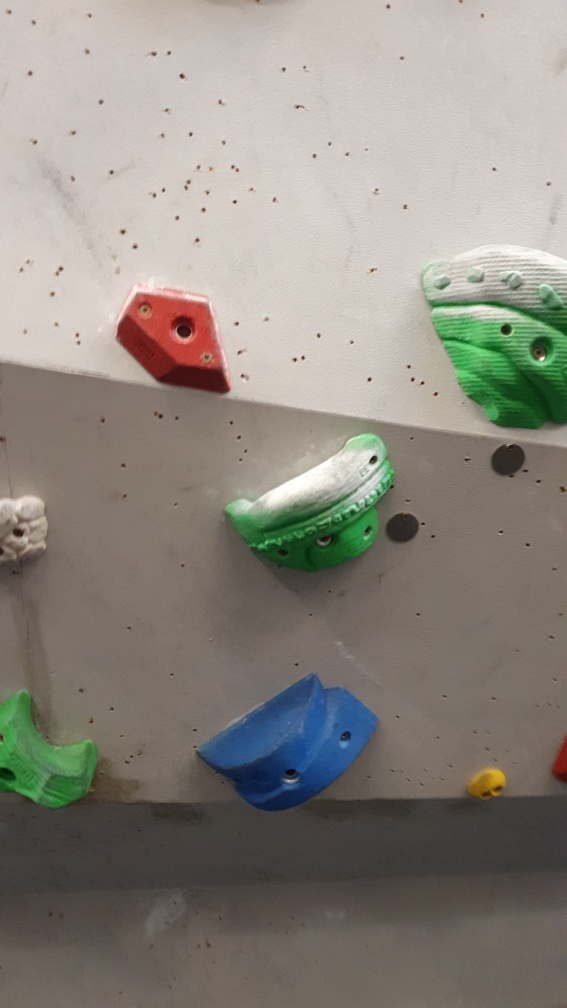Crimp: (112, 279, 233, 396)
Hand Start: (485, 440, 531, 479), (380, 509, 424, 545)
Jug: (413, 237, 567, 431), (219, 427, 396, 572), (1, 688, 105, 815)
Pinch: (192, 671, 380, 814)
